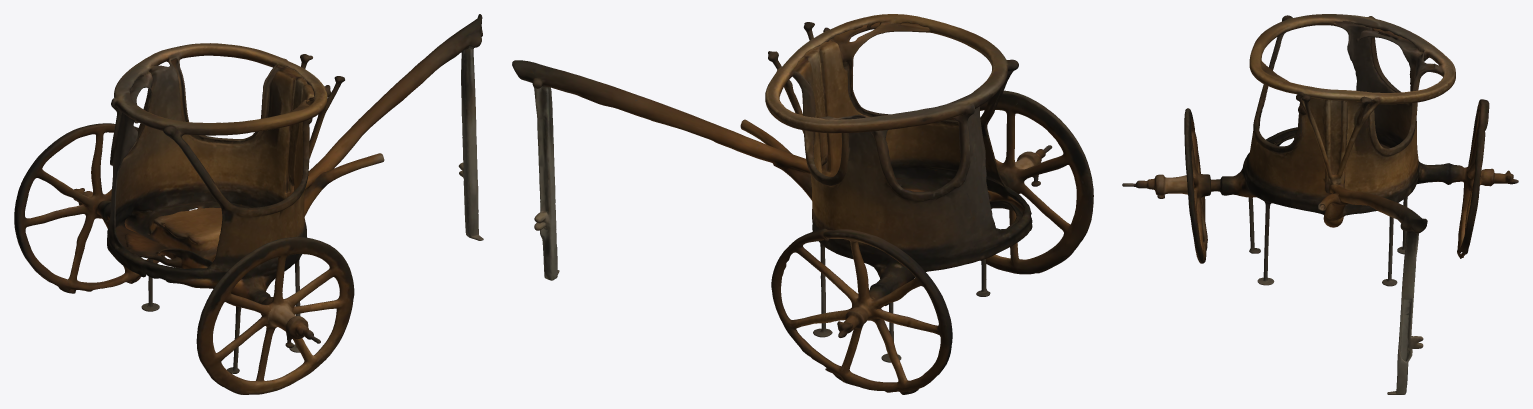
The picture shows the model from 3 angles, left to right: view 1: azimuth 30°, elevation 25°; view 2: azimuth 150°, elevation 25°; view 3: azimuth 270°, elevation 25°; orthographic projection. The views are drawn at different scales.
Visible parts, largest first — view 1: turned; view 2: turned; view 3: turned.
Part boxes in pixels (box(x1,y1,x2,y2)): turned: box(14, 14, 483, 394); turned: box(512, 14, 1093, 394); turned: box(1122, 14, 1518, 394).
Size of the model in its own units: 0.9928 by 0.5352 by 0.8766.
1 material, 1 textured.
